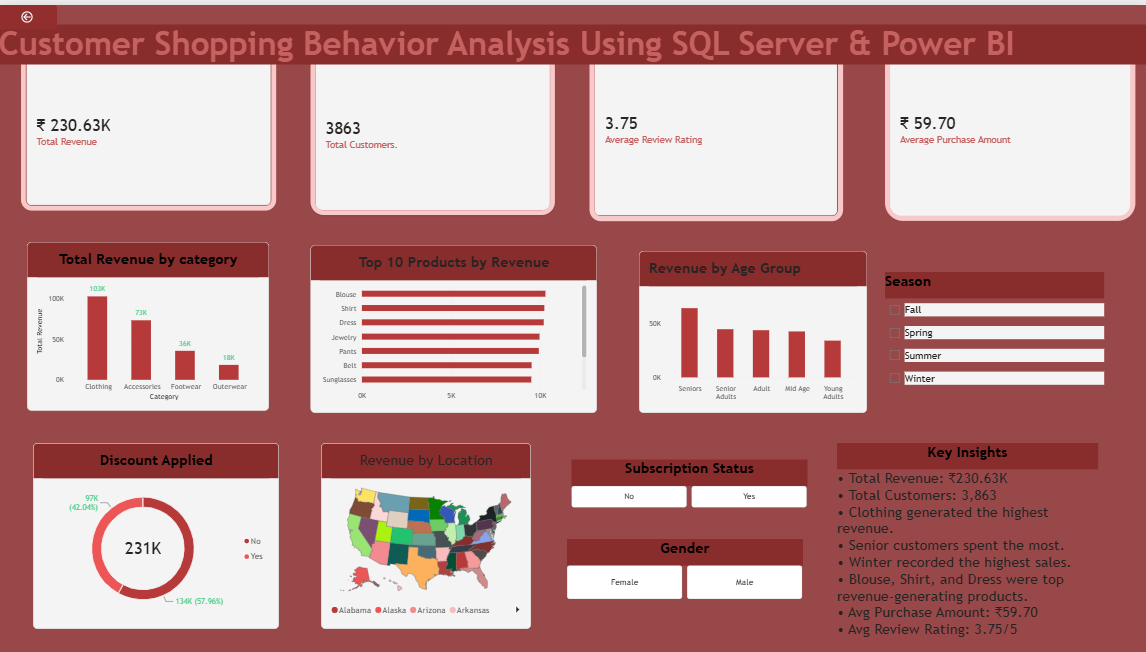

Layout of this report page (visuals, bound fields, positions):
{"tool":"powerbi","page":{"name":"Page 1","canvas":[1920,1080],"ordinal":0},"visuals":[{"type":"cardVisual","title":" Total customers","fields":{"Data":["Count(customer)"]},"box":[522.5,80,407.5,270],"z":0},{"type":"cardVisual","title":"average purchase amount","fields":{"Data":["Avg(customer.Purchase_Amount_USD)"]},"box":[1477.5,52.5,357.5,297.5],"z":1000},{"type":"cardVisual","title":"Review rating","fields":{"Data":["Avg(customer.Review_Rating)"]},"box":[990,80,442.5,270],"z":2000},{"type":"clusteredColumnChart","title":"Total Revenue by category","fields":{"Category":["customer.Category"],"Y":["customer.Total Revenue"]},"box":[50,395,403,281],"z":3000},{"type":"slicer","title":"Season","fields":{"Values":["customer.Season"]},"box":[1480,445,365,210],"z":5000},{"type":"donutChart","title":" Discount Applied","fields":{"Category":["customer.Discount_Applied"],"Y":["customer.Total Revenue"]},"box":[60,730,410,310],"z":7000},{"type":"cardVisual","title":"Total revenue","fields":{"Data":["customer.Total Revenue"]},"box":[40,80,425,262.5],"z":8000},{"type":"textbox","title":" Customer Shopping Behavior Analysis Using SQL Server & Power BI","box":[0,20,1916.7,66.7],"z":10000},{"type":"advancedSlicerVisual","title":"Subscription Status","fields":{"Values":["customer.Subscription_Status"]},"box":[957.5,757.5,393.3,80],"z":12001},{"type":"advancedSlicerVisual","fields":{"Values":["customer.Gender"]},"box":[950,890,393.3,100],"z":12003},{"type":"actionButton","box":[0,0,100,40],"z":12005},{"type":"textbox","box":[100,100,300,300],"z":12007},{"type":"textbox","box":[100,100,300,300],"z":12008},{"type":"textbox","box":[100,100,300,300],"z":12009},{"type":"textbox","box":[110,110,300,300],"z":12010},{"type":"textbox","box":[120,120,300,300],"z":12011},{"type":"textbox","box":[130,130,300,300],"z":12012},{"type":"textbox","box":[140,140,300,300],"z":12013},{"type":"textbox","box":[150,150,300,300],"z":12014},{"type":"textbox","box":[160,160,300,300],"z":12015},{"type":"textbox","box":[170,170,300,300],"z":12016},{"type":"textbox","box":[180,180,300,300],"z":12017},{"type":"textbox","box":[190,190,300,300],"z":12018},{"type":"textbox","box":[200,200,300,300],"z":12019},{"type":"textbox","box":[210,210,300,300],"z":12020},{"type":"textbox","box":[230,230,300,300],"z":12022},{"type":"textbox","box":[240,240,300,300],"z":12023},{"type":"textbox","box":[250,250,300,300],"z":12024},{"type":"textbox","box":[260,260,300,300],"z":12025},{"type":"textbox","box":[270,270,300,300],"z":12026},{"type":"textbox","box":[280,280,300,300],"z":12027},{"type":"textbox","box":[290,290,300,300],"z":12028},{"type":"textbox","box":[300,300,300,300],"z":12029},{"type":"textbox","box":[310,310,300,300],"z":12030},{"type":"textbox","box":[320,320,300,300],"z":12031},{"type":"textbox","box":[330,330,300,300],"z":12032},{"type":"textbox","box":[340,340,300,300],"z":12033},{"type":"textbox","box":[350,350,300,300],"z":12034},{"type":"textbox","box":[360,360,300,300],"z":12035},{"type":"textbox","box":[370,370,300,300],"z":12036},{"type":"textbox","box":[380,380,300,300],"z":12037},{"type":"textbox","box":[390,390,300,300],"z":12038},{"type":"textbox","box":[400,400,300,300],"z":12039},{"type":"textbox","box":[410,410,300,300],"z":12040},{"type":"textbox","box":[420,420,300,300],"z":12041},{"type":"textbox","box":[430,430,300,300],"z":12042},{"type":"textbox","box":[440,440,300,300],"z":12043},{"type":"textbox","box":[450,450,300,300],"z":12044},{"type":"textbox","box":[490,490,300,300],"z":12048},{"type":"textbox","box":[500,500,300,300],"z":12049},{"type":"textbox","box":[530,530,300,300],"z":12052},{"type":"textbox","box":[550,550,300,300],"z":12054},{"type":"textbox","box":[560,560,300,300],"z":12055},{"type":"textbox","box":[570,570,300,300],"z":12056},{"type":"textbox","box":[580,580,300,300],"z":12057},{"type":"textbox","box":[590,590,300,300],"z":12058},{"type":"textbox","box":[600,600,300,300],"z":12059},{"type":"textbox","box":[610,610,300,300],"z":12060},{"type":"textbox","box":[620,620,300,300],"z":12061},{"type":"textbox","box":[630,630,300,300],"z":12062},{"type":"textbox","box":[640,640,300,300],"z":12063},{"type":"textbox","box":[650,650,300,300],"z":12064},{"type":"textbox","box":[670,670,300,300],"z":12066},{"type":"textbox","box":[680,680,300,300],"z":12067},{"type":"textbox","box":[690,690,300,300],"z":12068},{"type":"textbox","box":[700,700,300,300],"z":12069},{"type":"textbox","box":[710,710,300,300],"z":12070},{"type":"textbox","box":[730,730,300,300],"z":12072},{"type":"textbox","box":[740,740,300,300],"z":12073},{"type":"textbox","box":[750,750,300,300],"z":12074},{"type":"textbox","box":[760,760,300,300],"z":12075},{"type":"textbox","box":[770,770,300,300],"z":12076},{"type":"textbox","box":[780,780,300,300],"z":12077},{"type":"textbox","box":[790,780,300,300],"z":12078},{"type":"textbox","box":[800,780,300,300],"z":12079},{"type":"textbox","box":[810,780,300,300],"z":12080},{"type":"textbox","box":[820,780,300,300],"z":12081},{"type":"textbox","box":[830,780,300,300],"z":12082},{"type":"textbox","box":[840,780,300,300],"z":12083},{"type":"textbox","box":[850,780,300,300],"z":12084},{"type":"textbox","box":[860,780,300,300],"z":12085},{"type":"textbox","box":[870,780,300,300],"z":12086},{"type":"textbox","box":[880,777.5,300,300],"z":12087},{"type":"textbox","box":[880,780,300,300],"z":12088},{"type":"textbox","box":[890,780,300,300],"z":12089},{"type":"textbox","box":[900,777.5,300,300],"z":12090},{"type":"textbox","box":[900,777.5,300,300],"z":12091},{"type":"textbox","box":[900,780,300,300],"z":12092},{"type":"textbox","box":[910,773.8,300,300],"z":12093},{"type":"textbox","box":[910,776.9,300,300],"z":12094},{"type":"textbox","box":[910,780,300,300],"z":12095},{"type":"textbox","box":[920,780,300,300],"z":12096},{"type":"textbox","box":[930,780,300,300],"z":12097},{"type":"textbox","box":[940,780,300,300],"z":12098},{"type":"textbox","box":[950,780,300,300],"z":12099},{"type":"textbox","box":[960,777.5,300,300],"z":12100},{"type":"textbox","box":[960,773.8,300,300],"z":12101},{"type":"textbox","box":[960,776.9,300,300],"z":12102},{"type":"textbox","box":[960,775.3,300,300],"z":12103},{"type":"textbox","box":[960,773,300,300],"z":12104},{"type":"textbox","box":[960,780,300,300],"z":12105},{"type":"textbox","box":[970,780,300,300],"z":12106},{"type":"textbox","box":[980,780,300,300],"z":12107},{"type":"textbox","box":[990,780,300,300],"z":12108},{"type":"textbox","box":[1000,757.5,300,300],"z":12109},{"type":"textbox","box":[1000,780,300,300],"z":12112},{"type":"textbox","box":[1010,780,300,300],"z":12113},{"type":"textbox","box":[1020,780,300,300],"z":12114},{"type":"textbox","box":[1036.2,780,300,300],"z":12115},{"type":"textbox","box":[1030,780,300,300],"z":12116},{"type":"textbox","box":[1040,780,300,300],"z":12117},{"type":"textbox","box":[1050,780,300,300],"z":12118},{"type":"textbox","box":[1080,780,300,300],"z":12119},{"type":"textbox","box":[1090,780,300,300],"z":12120},{"type":"textbox","box":[1082.5,780,300,300],"z":12121},{"type":"textbox","box":[1087.5,780,300,300],"z":12122},{"type":"textbox","box":[1085,780,300,300],"z":12123},{"type":"textbox","box":[1087.5,780,300,300],"z":12124},{"type":"textbox","box":[1097.5,780,300,300],"z":12125},{"type":"textbox","box":[1087.5,780,300,300],"z":12126},{"type":"textbox","box":[1085,780,300,300],"z":12127},{"type":"textbox","box":[1080,780,300,300],"z":12128},{"type":"textbox","box":[1075,780,300,300],"z":12129},{"type":"textbox","box":[1060,780,300,300],"z":12130},{"type":"textbox","box":[1100,780,300,300],"z":12132},{"type":"textbox","box":[1110,780,300,300],"z":12133},{"type":"textbox","box":[1120,780,300,300],"z":12134},{"type":"textbox","box":[1130,780,300,300],"z":12135},{"type":"textbox","box":[1140,780,300,300],"z":12136},{"type":"textbox","box":[1150,780,300,300],"z":12137},{"type":"textbox","box":[1160,780,300,300],"z":12138},{"type":"textbox","box":[1170,780,300,300],"z":12139},{"type":"textbox","box":[1180,780,300,300],"z":12140},{"type":"textbox","box":[1190,780,300,300],"z":12141},{"type":"textbox","box":[1200,780,300,300],"z":12142},{"type":"textbox","box":[1210,780,300,300],"z":12143},{"type":"textbox","box":[1220,780,300,300],"z":12144},{"type":"textbox","box":[1230,780,300,300],"z":12145},{"type":"textbox","box":[1240,780,300,300],"z":12146},{"type":"textbox","box":[1250,780,300,300],"z":12147},{"type":"textbox","box":[1260,780,300,300],"z":12148},{"type":"textbox","box":[1270,780,300,300],"z":12149},{"type":"textbox","box":[1280,780,300,300],"z":12150},{"type":"textbox","box":[1290,780,300,300],"z":12151},{"type":"textbox","box":[1300,780,300,300],"z":12152},{"type":"textbox","box":[1310,780,300,300],"z":12153},{"type":"textbox","box":[1320,780,300,300],"z":12154},{"type":"textbox","box":[1330,780,300,300],"z":12155},{"type":"textbox","box":[1340,780,300,300],"z":12156},{"type":"textbox","box":[1350,780,300,300],"z":12157},{"type":"textbox","box":[1360,780,300,300],"z":12158},{"type":"textbox","box":[1370,780,300,300],"z":12159},{"type":"textbox","box":[1380,780,300,300],"z":12160},{"type":"textbox","box":[1390,780,300,300],"z":12161},{"type":"textbox","box":[1400,780,300,300],"z":12162},{"type":"textbox","title":" Key Insights","box":[1400,730,435,330],"z":12164},{"type":"textbox","box":[100,100,300,300],"z":12165},{"type":"lineStackedColumnComboChart","title":"Revenue by Age Group","fields":{"Category":["customer.Age_Group"],"Y":["customer.Total Revenue"]},"box":[1070,410,380,270],"z":12166},{"type":"clusteredBarChart","title":" Top 10 Products by Revenue","fields":{"Category":["customer.Item_Purchased"],"Y":["Sum(customer.Purchase_Amount_USD)"]},"box":[522.5,400,477.5,280],"z":12167},{"type":"shapeMap","title":"Revenue by Location","fields":{"Category":["customer.Location"],"Series":["customer.Location"]},"box":[540,730,350,310],"z":12168}]}

Visuals, with their boxes on the page's 1920x1080 design canvas (x1, y1, x2, y2). These are canvas units, not pixel positions in the 1146x652 screenshot, which may show the page scaled, cropped or inside an application window:
" Total customers" cardVisual: {"left": 522, "top": 80, "right": 930, "bottom": 350}
"average purchase amount" cardVisual: {"left": 1478, "top": 52, "right": 1835, "bottom": 350}
"Review rating" cardVisual: {"left": 990, "top": 80, "right": 1432, "bottom": 350}
"Total Revenue by category" clusteredColumnChart: {"left": 50, "top": 395, "right": 453, "bottom": 676}
"Season" slicer: {"left": 1480, "top": 445, "right": 1845, "bottom": 655}
" Discount Applied" donutChart: {"left": 60, "top": 730, "right": 470, "bottom": 1040}
"Total revenue" cardVisual: {"left": 40, "top": 80, "right": 465, "bottom": 342}
" Customer Shopping Behavior Analysis Using SQL Server & Power BI" textbox: {"left": 0, "top": 20, "right": 1917, "bottom": 87}
"Subscription Status" advancedSlicerVisual: {"left": 958, "top": 758, "right": 1351, "bottom": 838}
advancedSlicerVisual - customer.Gender: {"left": 950, "top": 890, "right": 1343, "bottom": 990}
actionButton: {"left": 0, "top": 0, "right": 100, "bottom": 40}
textbox: {"left": 100, "top": 100, "right": 400, "bottom": 400}
textbox: {"left": 100, "top": 100, "right": 400, "bottom": 400}
textbox: {"left": 100, "top": 100, "right": 400, "bottom": 400}
textbox: {"left": 110, "top": 110, "right": 410, "bottom": 410}
textbox: {"left": 120, "top": 120, "right": 420, "bottom": 420}
textbox: {"left": 130, "top": 130, "right": 430, "bottom": 430}
textbox: {"left": 140, "top": 140, "right": 440, "bottom": 440}
textbox: {"left": 150, "top": 150, "right": 450, "bottom": 450}
textbox: {"left": 160, "top": 160, "right": 460, "bottom": 460}
textbox: {"left": 170, "top": 170, "right": 470, "bottom": 470}
textbox: {"left": 180, "top": 180, "right": 480, "bottom": 480}
textbox: {"left": 190, "top": 190, "right": 490, "bottom": 490}
textbox: {"left": 200, "top": 200, "right": 500, "bottom": 500}
textbox: {"left": 210, "top": 210, "right": 510, "bottom": 510}
textbox: {"left": 230, "top": 230, "right": 530, "bottom": 530}
textbox: {"left": 240, "top": 240, "right": 540, "bottom": 540}
textbox: {"left": 250, "top": 250, "right": 550, "bottom": 550}
textbox: {"left": 260, "top": 260, "right": 560, "bottom": 560}
textbox: {"left": 270, "top": 270, "right": 570, "bottom": 570}
textbox: {"left": 280, "top": 280, "right": 580, "bottom": 580}
textbox: {"left": 290, "top": 290, "right": 590, "bottom": 590}
textbox: {"left": 300, "top": 300, "right": 600, "bottom": 600}
textbox: {"left": 310, "top": 310, "right": 610, "bottom": 610}
textbox: {"left": 320, "top": 320, "right": 620, "bottom": 620}
textbox: {"left": 330, "top": 330, "right": 630, "bottom": 630}
textbox: {"left": 340, "top": 340, "right": 640, "bottom": 640}
textbox: {"left": 350, "top": 350, "right": 650, "bottom": 650}
textbox: {"left": 360, "top": 360, "right": 660, "bottom": 660}
textbox: {"left": 370, "top": 370, "right": 670, "bottom": 670}
textbox: {"left": 380, "top": 380, "right": 680, "bottom": 680}
textbox: {"left": 390, "top": 390, "right": 690, "bottom": 690}
textbox: {"left": 400, "top": 400, "right": 700, "bottom": 700}
textbox: {"left": 410, "top": 410, "right": 710, "bottom": 710}
textbox: {"left": 420, "top": 420, "right": 720, "bottom": 720}
textbox: {"left": 430, "top": 430, "right": 730, "bottom": 730}
textbox: {"left": 440, "top": 440, "right": 740, "bottom": 740}
textbox: {"left": 450, "top": 450, "right": 750, "bottom": 750}
textbox: {"left": 490, "top": 490, "right": 790, "bottom": 790}
textbox: {"left": 500, "top": 500, "right": 800, "bottom": 800}
textbox: {"left": 530, "top": 530, "right": 830, "bottom": 830}
textbox: {"left": 550, "top": 550, "right": 850, "bottom": 850}
textbox: {"left": 560, "top": 560, "right": 860, "bottom": 860}
textbox: {"left": 570, "top": 570, "right": 870, "bottom": 870}
textbox: {"left": 580, "top": 580, "right": 880, "bottom": 880}
textbox: {"left": 590, "top": 590, "right": 890, "bottom": 890}
textbox: {"left": 600, "top": 600, "right": 900, "bottom": 900}
textbox: {"left": 610, "top": 610, "right": 910, "bottom": 910}
textbox: {"left": 620, "top": 620, "right": 920, "bottom": 920}
textbox: {"left": 630, "top": 630, "right": 930, "bottom": 930}
textbox: {"left": 640, "top": 640, "right": 940, "bottom": 940}
textbox: {"left": 650, "top": 650, "right": 950, "bottom": 950}
textbox: {"left": 670, "top": 670, "right": 970, "bottom": 970}
textbox: {"left": 680, "top": 680, "right": 980, "bottom": 980}
textbox: {"left": 690, "top": 690, "right": 990, "bottom": 990}
textbox: {"left": 700, "top": 700, "right": 1000, "bottom": 1000}
textbox: {"left": 710, "top": 710, "right": 1010, "bottom": 1010}
textbox: {"left": 730, "top": 730, "right": 1030, "bottom": 1030}
textbox: {"left": 740, "top": 740, "right": 1040, "bottom": 1040}
textbox: {"left": 750, "top": 750, "right": 1050, "bottom": 1050}
textbox: {"left": 760, "top": 760, "right": 1060, "bottom": 1060}
textbox: {"left": 770, "top": 770, "right": 1070, "bottom": 1070}
textbox: {"left": 780, "top": 780, "right": 1080, "bottom": 1080}
textbox: {"left": 790, "top": 780, "right": 1090, "bottom": 1080}
textbox: {"left": 800, "top": 780, "right": 1100, "bottom": 1080}
textbox: {"left": 810, "top": 780, "right": 1110, "bottom": 1080}
textbox: {"left": 820, "top": 780, "right": 1120, "bottom": 1080}
textbox: {"left": 830, "top": 780, "right": 1130, "bottom": 1080}
textbox: {"left": 840, "top": 780, "right": 1140, "bottom": 1080}
textbox: {"left": 850, "top": 780, "right": 1150, "bottom": 1080}
textbox: {"left": 860, "top": 780, "right": 1160, "bottom": 1080}
textbox: {"left": 870, "top": 780, "right": 1170, "bottom": 1080}
textbox: {"left": 880, "top": 778, "right": 1180, "bottom": 1078}
textbox: {"left": 880, "top": 780, "right": 1180, "bottom": 1080}
textbox: {"left": 890, "top": 780, "right": 1190, "bottom": 1080}
textbox: {"left": 900, "top": 778, "right": 1200, "bottom": 1078}
textbox: {"left": 900, "top": 778, "right": 1200, "bottom": 1078}
textbox: {"left": 900, "top": 780, "right": 1200, "bottom": 1080}
textbox: {"left": 910, "top": 774, "right": 1210, "bottom": 1074}
textbox: {"left": 910, "top": 777, "right": 1210, "bottom": 1077}
textbox: {"left": 910, "top": 780, "right": 1210, "bottom": 1080}
textbox: {"left": 920, "top": 780, "right": 1220, "bottom": 1080}
textbox: {"left": 930, "top": 780, "right": 1230, "bottom": 1080}
textbox: {"left": 940, "top": 780, "right": 1240, "bottom": 1080}
textbox: {"left": 950, "top": 780, "right": 1250, "bottom": 1080}
textbox: {"left": 960, "top": 778, "right": 1260, "bottom": 1078}
textbox: {"left": 960, "top": 774, "right": 1260, "bottom": 1074}
textbox: {"left": 960, "top": 777, "right": 1260, "bottom": 1077}
textbox: {"left": 960, "top": 775, "right": 1260, "bottom": 1075}
textbox: {"left": 960, "top": 773, "right": 1260, "bottom": 1073}
textbox: {"left": 960, "top": 780, "right": 1260, "bottom": 1080}
textbox: {"left": 970, "top": 780, "right": 1270, "bottom": 1080}
textbox: {"left": 980, "top": 780, "right": 1280, "bottom": 1080}
textbox: {"left": 990, "top": 780, "right": 1290, "bottom": 1080}
textbox: {"left": 1000, "top": 758, "right": 1300, "bottom": 1058}
textbox: {"left": 1000, "top": 780, "right": 1300, "bottom": 1080}
textbox: {"left": 1010, "top": 780, "right": 1310, "bottom": 1080}
textbox: {"left": 1020, "top": 780, "right": 1320, "bottom": 1080}
textbox: {"left": 1036, "top": 780, "right": 1336, "bottom": 1080}
textbox: {"left": 1030, "top": 780, "right": 1330, "bottom": 1080}
textbox: {"left": 1040, "top": 780, "right": 1340, "bottom": 1080}
textbox: {"left": 1050, "top": 780, "right": 1350, "bottom": 1080}
textbox: {"left": 1080, "top": 780, "right": 1380, "bottom": 1080}
textbox: {"left": 1090, "top": 780, "right": 1390, "bottom": 1080}
textbox: {"left": 1082, "top": 780, "right": 1382, "bottom": 1080}
textbox: {"left": 1088, "top": 780, "right": 1388, "bottom": 1080}
textbox: {"left": 1085, "top": 780, "right": 1385, "bottom": 1080}
textbox: {"left": 1088, "top": 780, "right": 1388, "bottom": 1080}
textbox: {"left": 1098, "top": 780, "right": 1398, "bottom": 1080}
textbox: {"left": 1088, "top": 780, "right": 1388, "bottom": 1080}
textbox: {"left": 1085, "top": 780, "right": 1385, "bottom": 1080}
textbox: {"left": 1080, "top": 780, "right": 1380, "bottom": 1080}
textbox: {"left": 1075, "top": 780, "right": 1375, "bottom": 1080}
textbox: {"left": 1060, "top": 780, "right": 1360, "bottom": 1080}
textbox: {"left": 1100, "top": 780, "right": 1400, "bottom": 1080}
textbox: {"left": 1110, "top": 780, "right": 1410, "bottom": 1080}
textbox: {"left": 1120, "top": 780, "right": 1420, "bottom": 1080}
textbox: {"left": 1130, "top": 780, "right": 1430, "bottom": 1080}
textbox: {"left": 1140, "top": 780, "right": 1440, "bottom": 1080}
textbox: {"left": 1150, "top": 780, "right": 1450, "bottom": 1080}
textbox: {"left": 1160, "top": 780, "right": 1460, "bottom": 1080}
textbox: {"left": 1170, "top": 780, "right": 1470, "bottom": 1080}
textbox: {"left": 1180, "top": 780, "right": 1480, "bottom": 1080}
textbox: {"left": 1190, "top": 780, "right": 1490, "bottom": 1080}
textbox: {"left": 1200, "top": 780, "right": 1500, "bottom": 1080}
textbox: {"left": 1210, "top": 780, "right": 1510, "bottom": 1080}
textbox: {"left": 1220, "top": 780, "right": 1520, "bottom": 1080}
textbox: {"left": 1230, "top": 780, "right": 1530, "bottom": 1080}
textbox: {"left": 1240, "top": 780, "right": 1540, "bottom": 1080}
textbox: {"left": 1250, "top": 780, "right": 1550, "bottom": 1080}
textbox: {"left": 1260, "top": 780, "right": 1560, "bottom": 1080}
textbox: {"left": 1270, "top": 780, "right": 1570, "bottom": 1080}
textbox: {"left": 1280, "top": 780, "right": 1580, "bottom": 1080}
textbox: {"left": 1290, "top": 780, "right": 1590, "bottom": 1080}
textbox: {"left": 1300, "top": 780, "right": 1600, "bottom": 1080}
textbox: {"left": 1310, "top": 780, "right": 1610, "bottom": 1080}
textbox: {"left": 1320, "top": 780, "right": 1620, "bottom": 1080}
textbox: {"left": 1330, "top": 780, "right": 1630, "bottom": 1080}
textbox: {"left": 1340, "top": 780, "right": 1640, "bottom": 1080}
textbox: {"left": 1350, "top": 780, "right": 1650, "bottom": 1080}
textbox: {"left": 1360, "top": 780, "right": 1660, "bottom": 1080}
textbox: {"left": 1370, "top": 780, "right": 1670, "bottom": 1080}
textbox: {"left": 1380, "top": 780, "right": 1680, "bottom": 1080}
textbox: {"left": 1390, "top": 780, "right": 1690, "bottom": 1080}
textbox: {"left": 1400, "top": 780, "right": 1700, "bottom": 1080}
" Key Insights" textbox: {"left": 1400, "top": 730, "right": 1835, "bottom": 1060}
textbox: {"left": 100, "top": 100, "right": 400, "bottom": 400}
"Revenue by Age Group" lineStackedColumnComboChart: {"left": 1070, "top": 410, "right": 1450, "bottom": 680}
" Top 10 Products by Revenue" clusteredBarChart: {"left": 522, "top": 400, "right": 1000, "bottom": 680}
"Revenue by Location" shapeMap: {"left": 540, "top": 730, "right": 890, "bottom": 1040}
